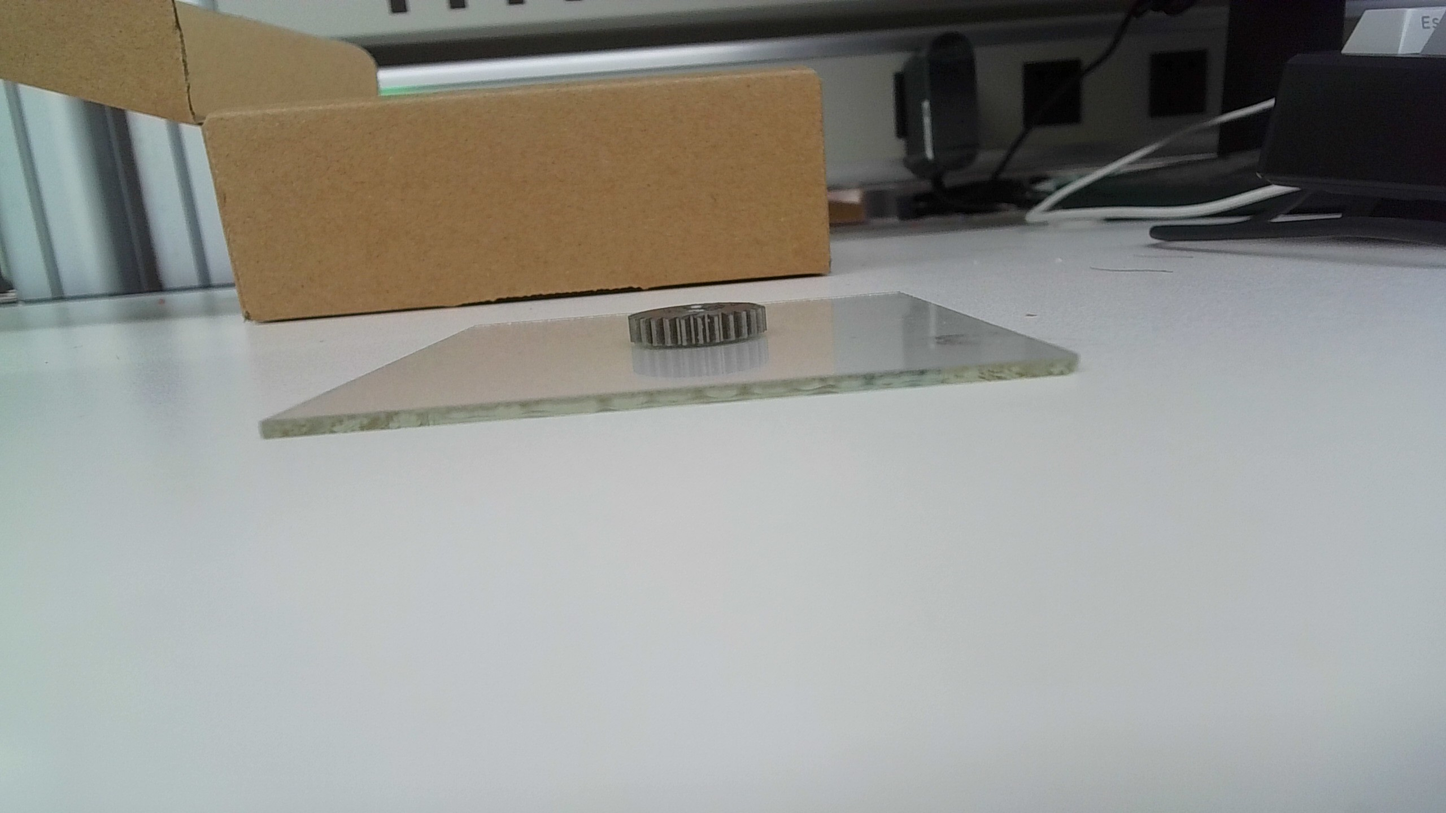gear: (629, 300, 772, 354)
